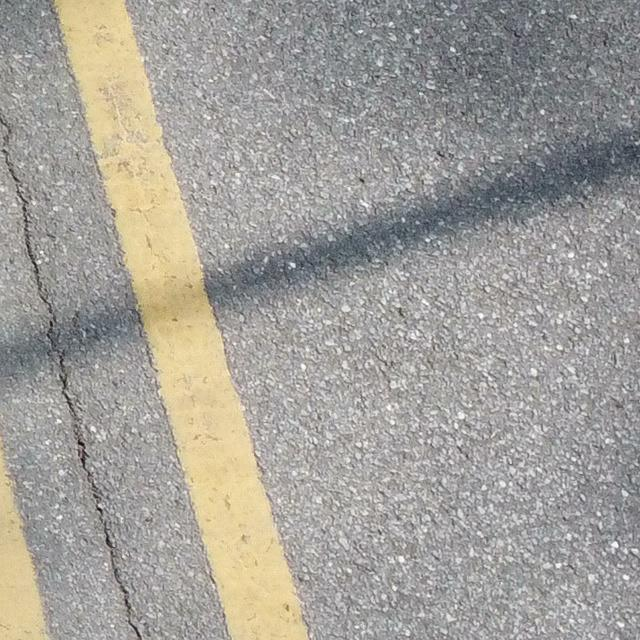LongitudinalCrack: (1, 123, 141, 640)
